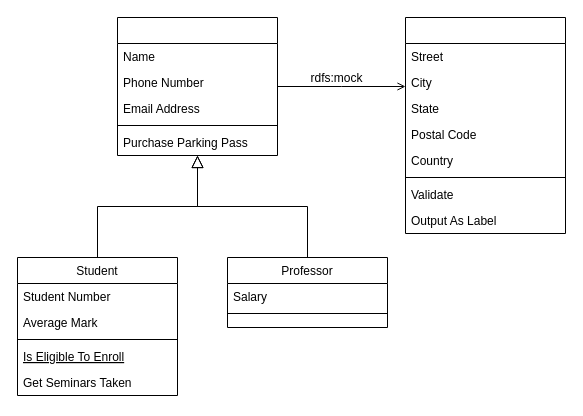
The diagram is 583 pixels wide and 416 high, and some of its shapes have lost their labels. Here are the shapes that lost their labels. From the top down, the box of each, then its label:
(116, 16, 278, 156): rdf:Person
(404, 16, 566, 234): Address
